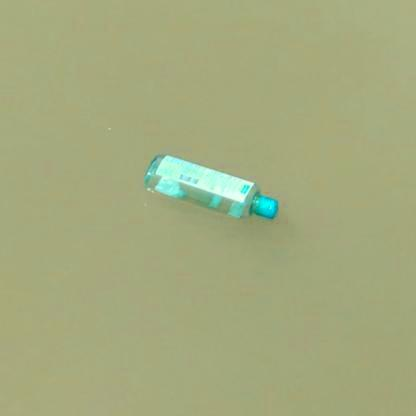Glass: (142, 146, 281, 224)
